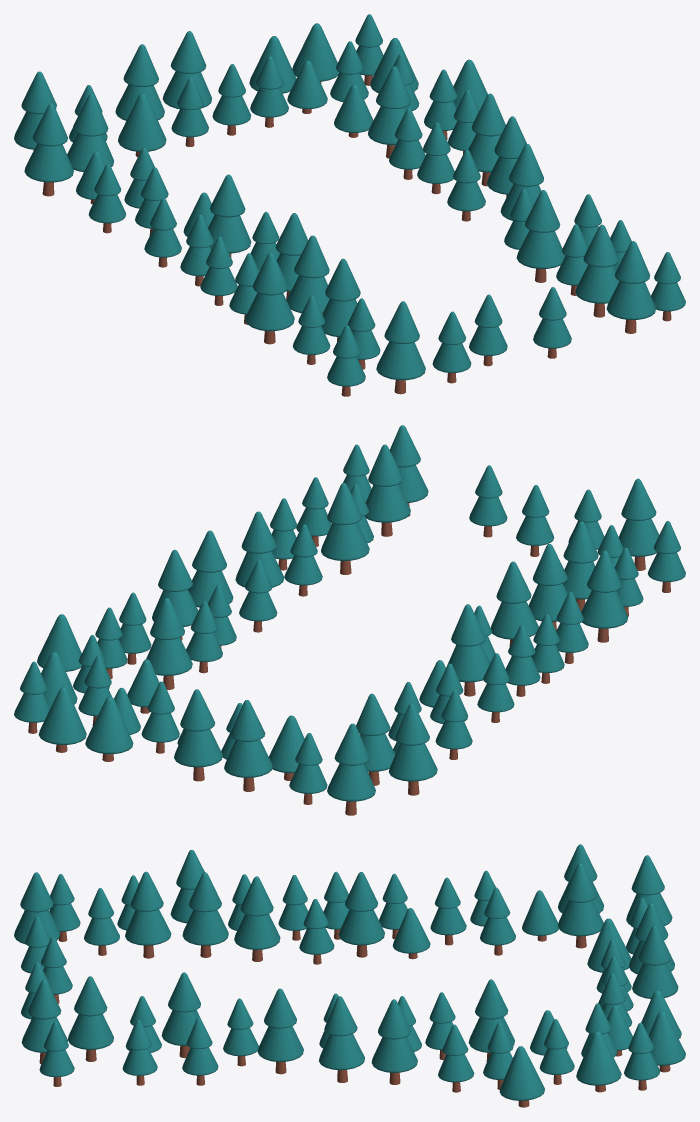
File: Objetos_7.fbx
3 views of the same model, one above another, from view 1: azimuth 30°, elevation 25°; view 2: azimuth 150°, elevation 25°; view 3: azimuth 270°, elevation 25° (orthographic). The views are drawn at different scales.
Parts seen in each view (by area): view 1: polySurface12 (×43), polySurface13 (×37), polySurface1064, polySurface1066, polySurface1065; view 2: polySurface13 (×34), polySurface12 (×25), polySurface1066, polySurface1064, polySurface1065; view 3: polySurface12 (×49), polySurface13 (×35), polySurface1064, polySurface1062.
Part boxes in pixels (x1=…): polySurface12 (×43): x1=21, y1=14, x2=650, y2=358; polySurface13 (×37): x1=14, y1=45, x2=685, y2=386; polySurface1064: x1=123, y1=44, x2=158, y2=86; polySurface1066: x1=115, y1=84, x2=164, y2=120; polySurface1065: x1=88, y1=194, x2=125, y2=223; polySurface13 (×34): x1=14, y1=465, x2=685, y2=801; polySurface12 (×25): x1=37, y1=425, x2=656, y2=773; polySurface1066: x1=224, y1=739, x2=272, y2=777; polySurface1064: x1=230, y1=700, x2=265, y2=741; polySurface1065: x1=435, y1=720, x2=472, y2=749; polySurface12 (×49): x1=20, y1=844, x2=685, y2=1100; polySurface13 (×35): x1=14, y1=888, x2=678, y2=1082; polySurface1064: x1=635, y1=903, x2=668, y2=942; polySurface1062: x1=474, y1=870, x2=495, y2=900.
Bounding box in the file's own units: 24.8 × 5.13 × 35.83.
